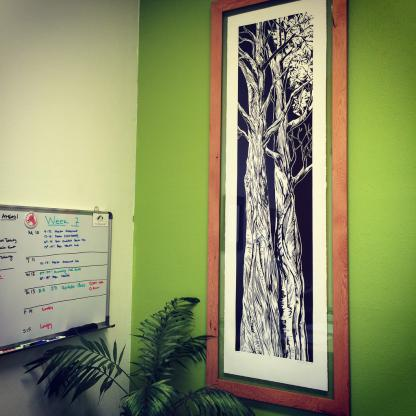Picture-frame: (207, 1, 351, 416)
